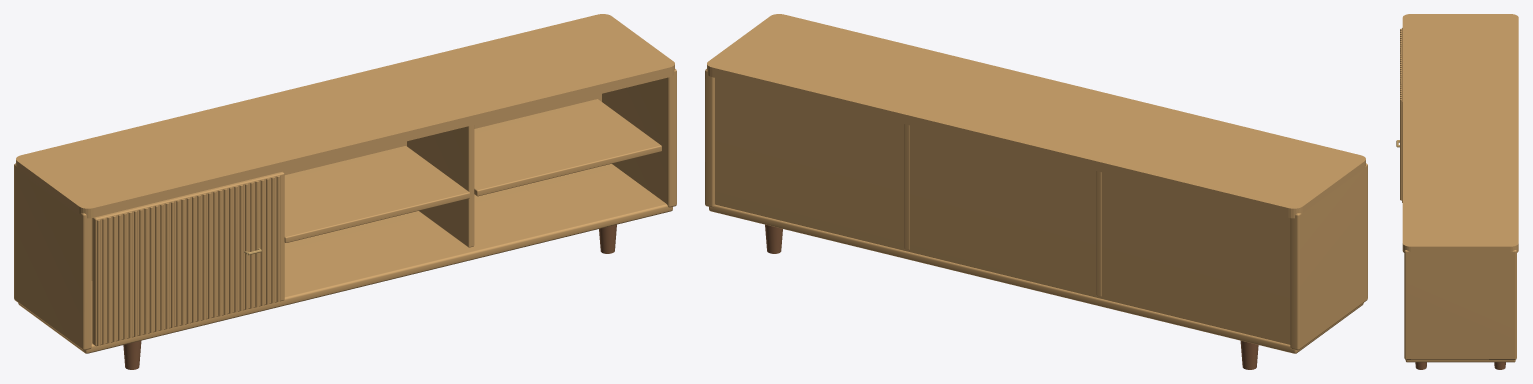
Rendered from designed-media-asymmetric.glb.
3 views of the same model, side by side, from view 1: azimuth 30°, elevation 25°; view 2: azimuth 150°, elevation 25°; view 3: azimuth 270°, elevation 25° (orthographic). The views are drawn at different scales.
Parts seen in each view (by area): view 1: designed-media-asymmetric authored assembly; view 2: designed-media-asymmetric authored assembly; view 3: designed-media-asymmetric authored assembly.
Part boxes in pixels (x1,y1,x2,y2): designed-media-asymmetric authored assembly: (14,14,676,369); designed-media-asymmetric authored assembly: (705,14,1367,369); designed-media-asymmetric authored assembly: (1396,14,1518,369).
Bounding box in the file's own units: 1.8 × 0.52 × 0.4.
